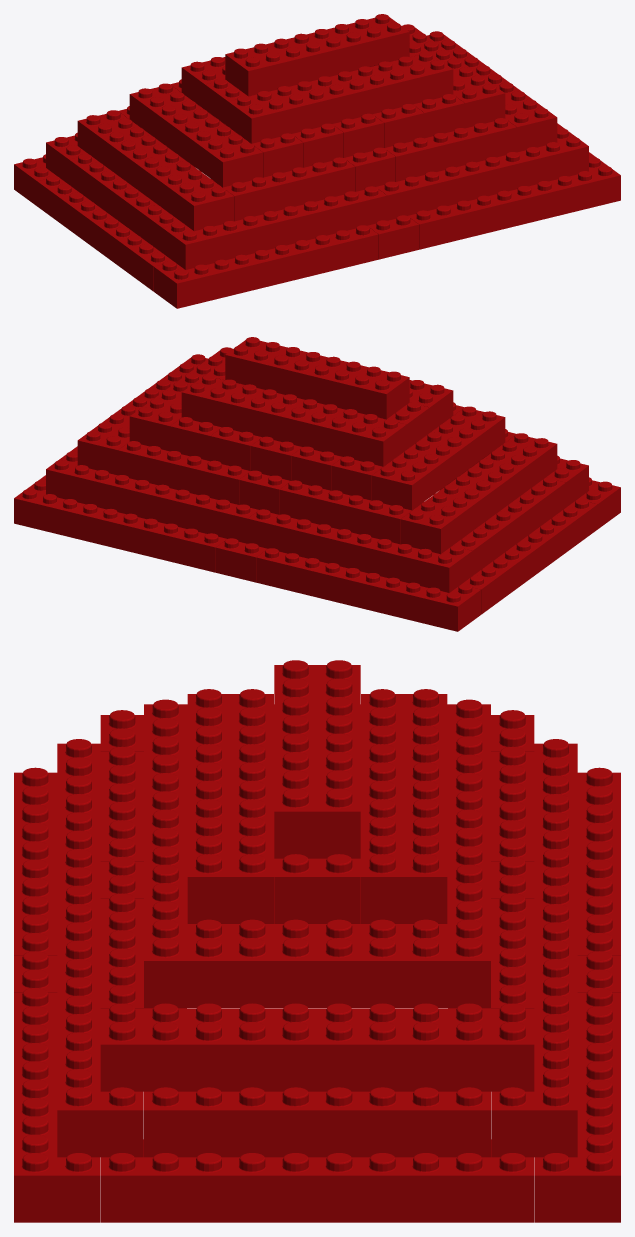
Rendered from roof.obj.
3 renders of one model, top to bottom at view 1: azimuth 30°, elevation 25°; view 2: azimuth 150°, elevation 25°; view 3: azimuth 270°, elevation 25°, orthographic. The views are drawn at different scales.
Visible parts, largest first — view 1: Part.30, Part.16, Part.4, Part.34, Part.11, Part.3, Part.12, Part.29, Part.8, Part.17, Part.18, Part.14 (+13 smaller); view 2: Part.31, Part.16, Part.1, Part.34, Part.10, Part.2, Part.9, Part.29, Part.8, Part.20, Part.22, Part.14 (+13 smaller); view 3: Part.15, Part.5, Part.23, Part.13, Part.30, Part.31, Part.34, Part.2, Part.3, Part.12, Part.9, Part.1 (+19 smaller).
Part boxes in pixels (<box>): Part.30: <box>228,51,453,143</box>; Part.16: <box>77,110,234,231</box>; Part.4: <box>154,225,378,308</box>; Part.34: <box>225,14,409,96</box>; Part.11: <box>162,186,387,269</box>; Part.3: <box>408,157,620,249</box>; Part.12: <box>376,128,588,220</box>; Part.29: <box>129,83,262,187</box>; Part.8: <box>37,175,173,291</box>; Part.17: <box>214,157,355,221</box>; Part.18: <box>384,118,516,181</box>; Part.14: <box>69,154,181,252</box>; Part.31: <box>181,374,406,466</box>; Part.16: <box>400,433,557,554</box>; Part.1: <box>256,548,480,631</box>; Part.34: <box>225,337,409,419</box>; Part.10: <box>247,509,472,592</box>; Part.2: <box>14,480,226,572</box>; Part.9: <box>46,451,258,543</box>; Part.29: <box>372,406,505,510</box>; Part.8: <box>461,498,597,614</box>; Part.20: <box>279,480,420,544</box>; Part.22: <box>118,441,250,504</box>; Part.14: <box>453,477,565,575</box>; Part.15: <box>100,1003,534,1091</box>; Part.5: <box>100,1139,534,1222</box>; Part.23: <box>144,919,490,1007</box>; Part.13: <box>144,1087,490,1157</box>; Part.30: <box>187,689,273,923</box>; Part.31: <box>361,689,447,923</box>; Part.34: <box>274,660,360,858</box>; Part.2: <box>534,987,620,1222</box>; Part.3: <box>14,987,100,1222</box>; Part.12: <box>57,922,143,1157</box>; Part.9: <box>491,922,577,1157</box>; Part.1: <box>577,767,620,955</box>.
Size of the model in its own units: 176 by 59.38 by 112.
